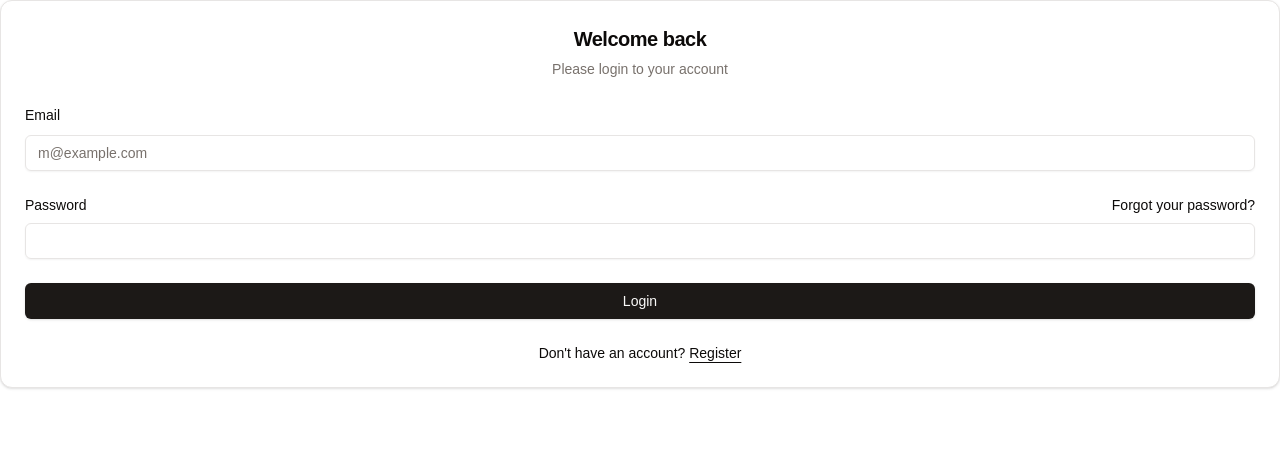
Test: LoginForm › displays validation error for invalid email
Type "invalid-email" into the field labelled "Email".
click(640, 153); type("invalid-email")  # box x1=25 y1=135 x2=1255 y2=171
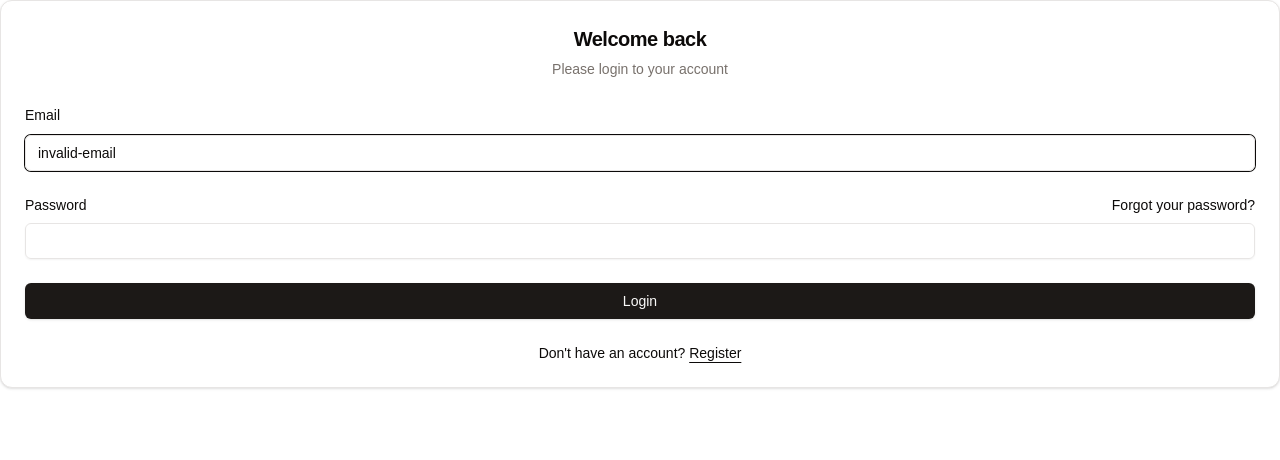
Submit the form from the button "Login", box x1=25 y1=283 x2=1255 y2=319
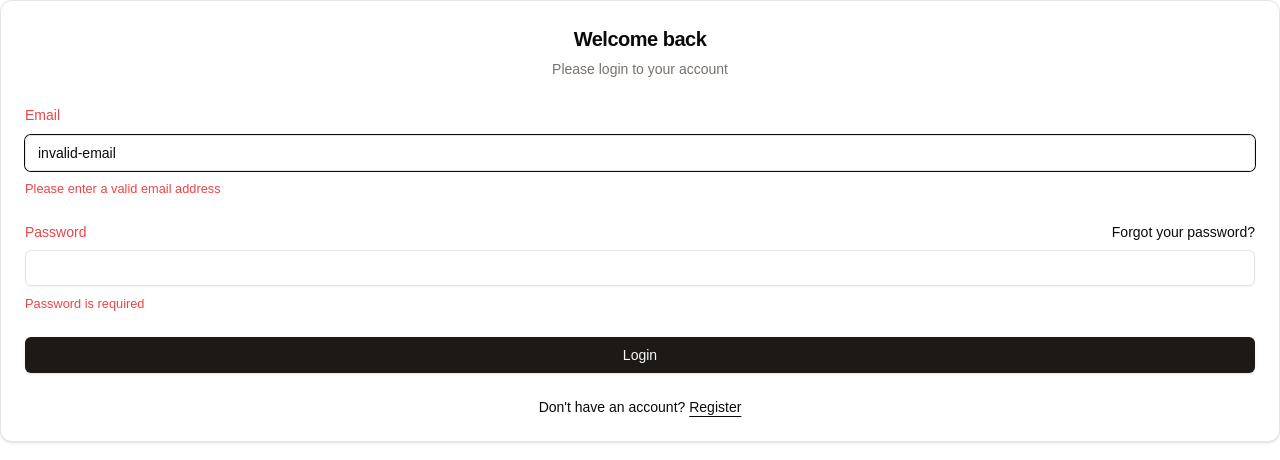
Result: the text "Please enter a valid email address" is shown at x1=25 y1=181 x2=221 y2=196
